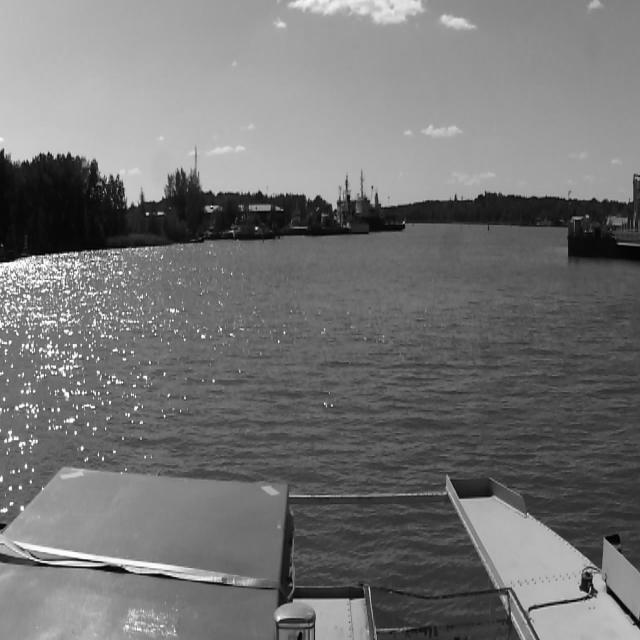buoy: (487, 222, 489, 231), (412, 221, 414, 227)
ship: (336, 174, 369, 236), (352, 165, 386, 223)
